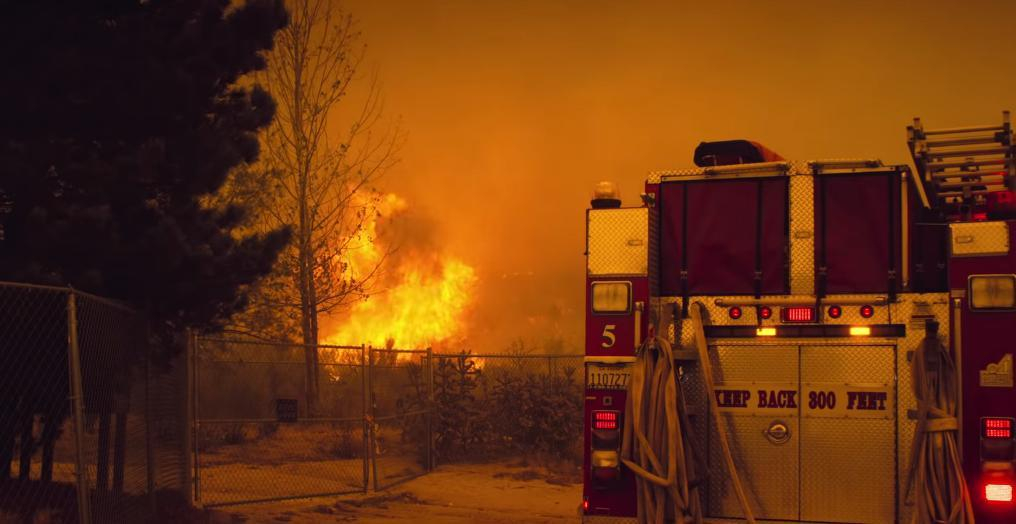Fire: (314, 173, 489, 384)
